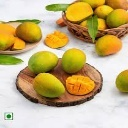mango: (32, 71, 67, 99), (26, 51, 60, 75), (62, 48, 86, 74)
